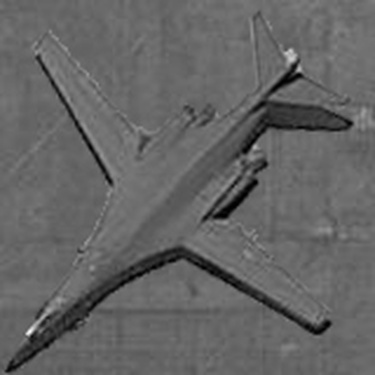airplane: (7, 5, 368, 373)
